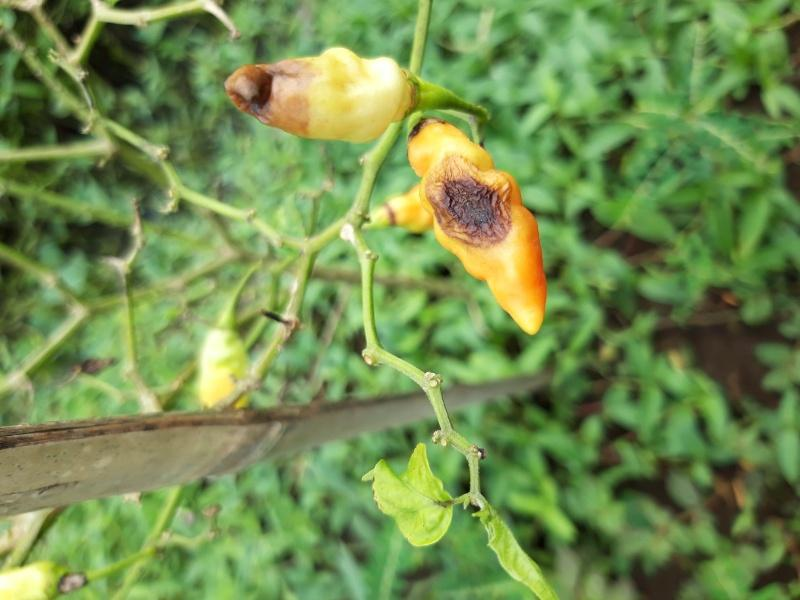antraknosa: (409, 116, 548, 337), (224, 48, 406, 146)
